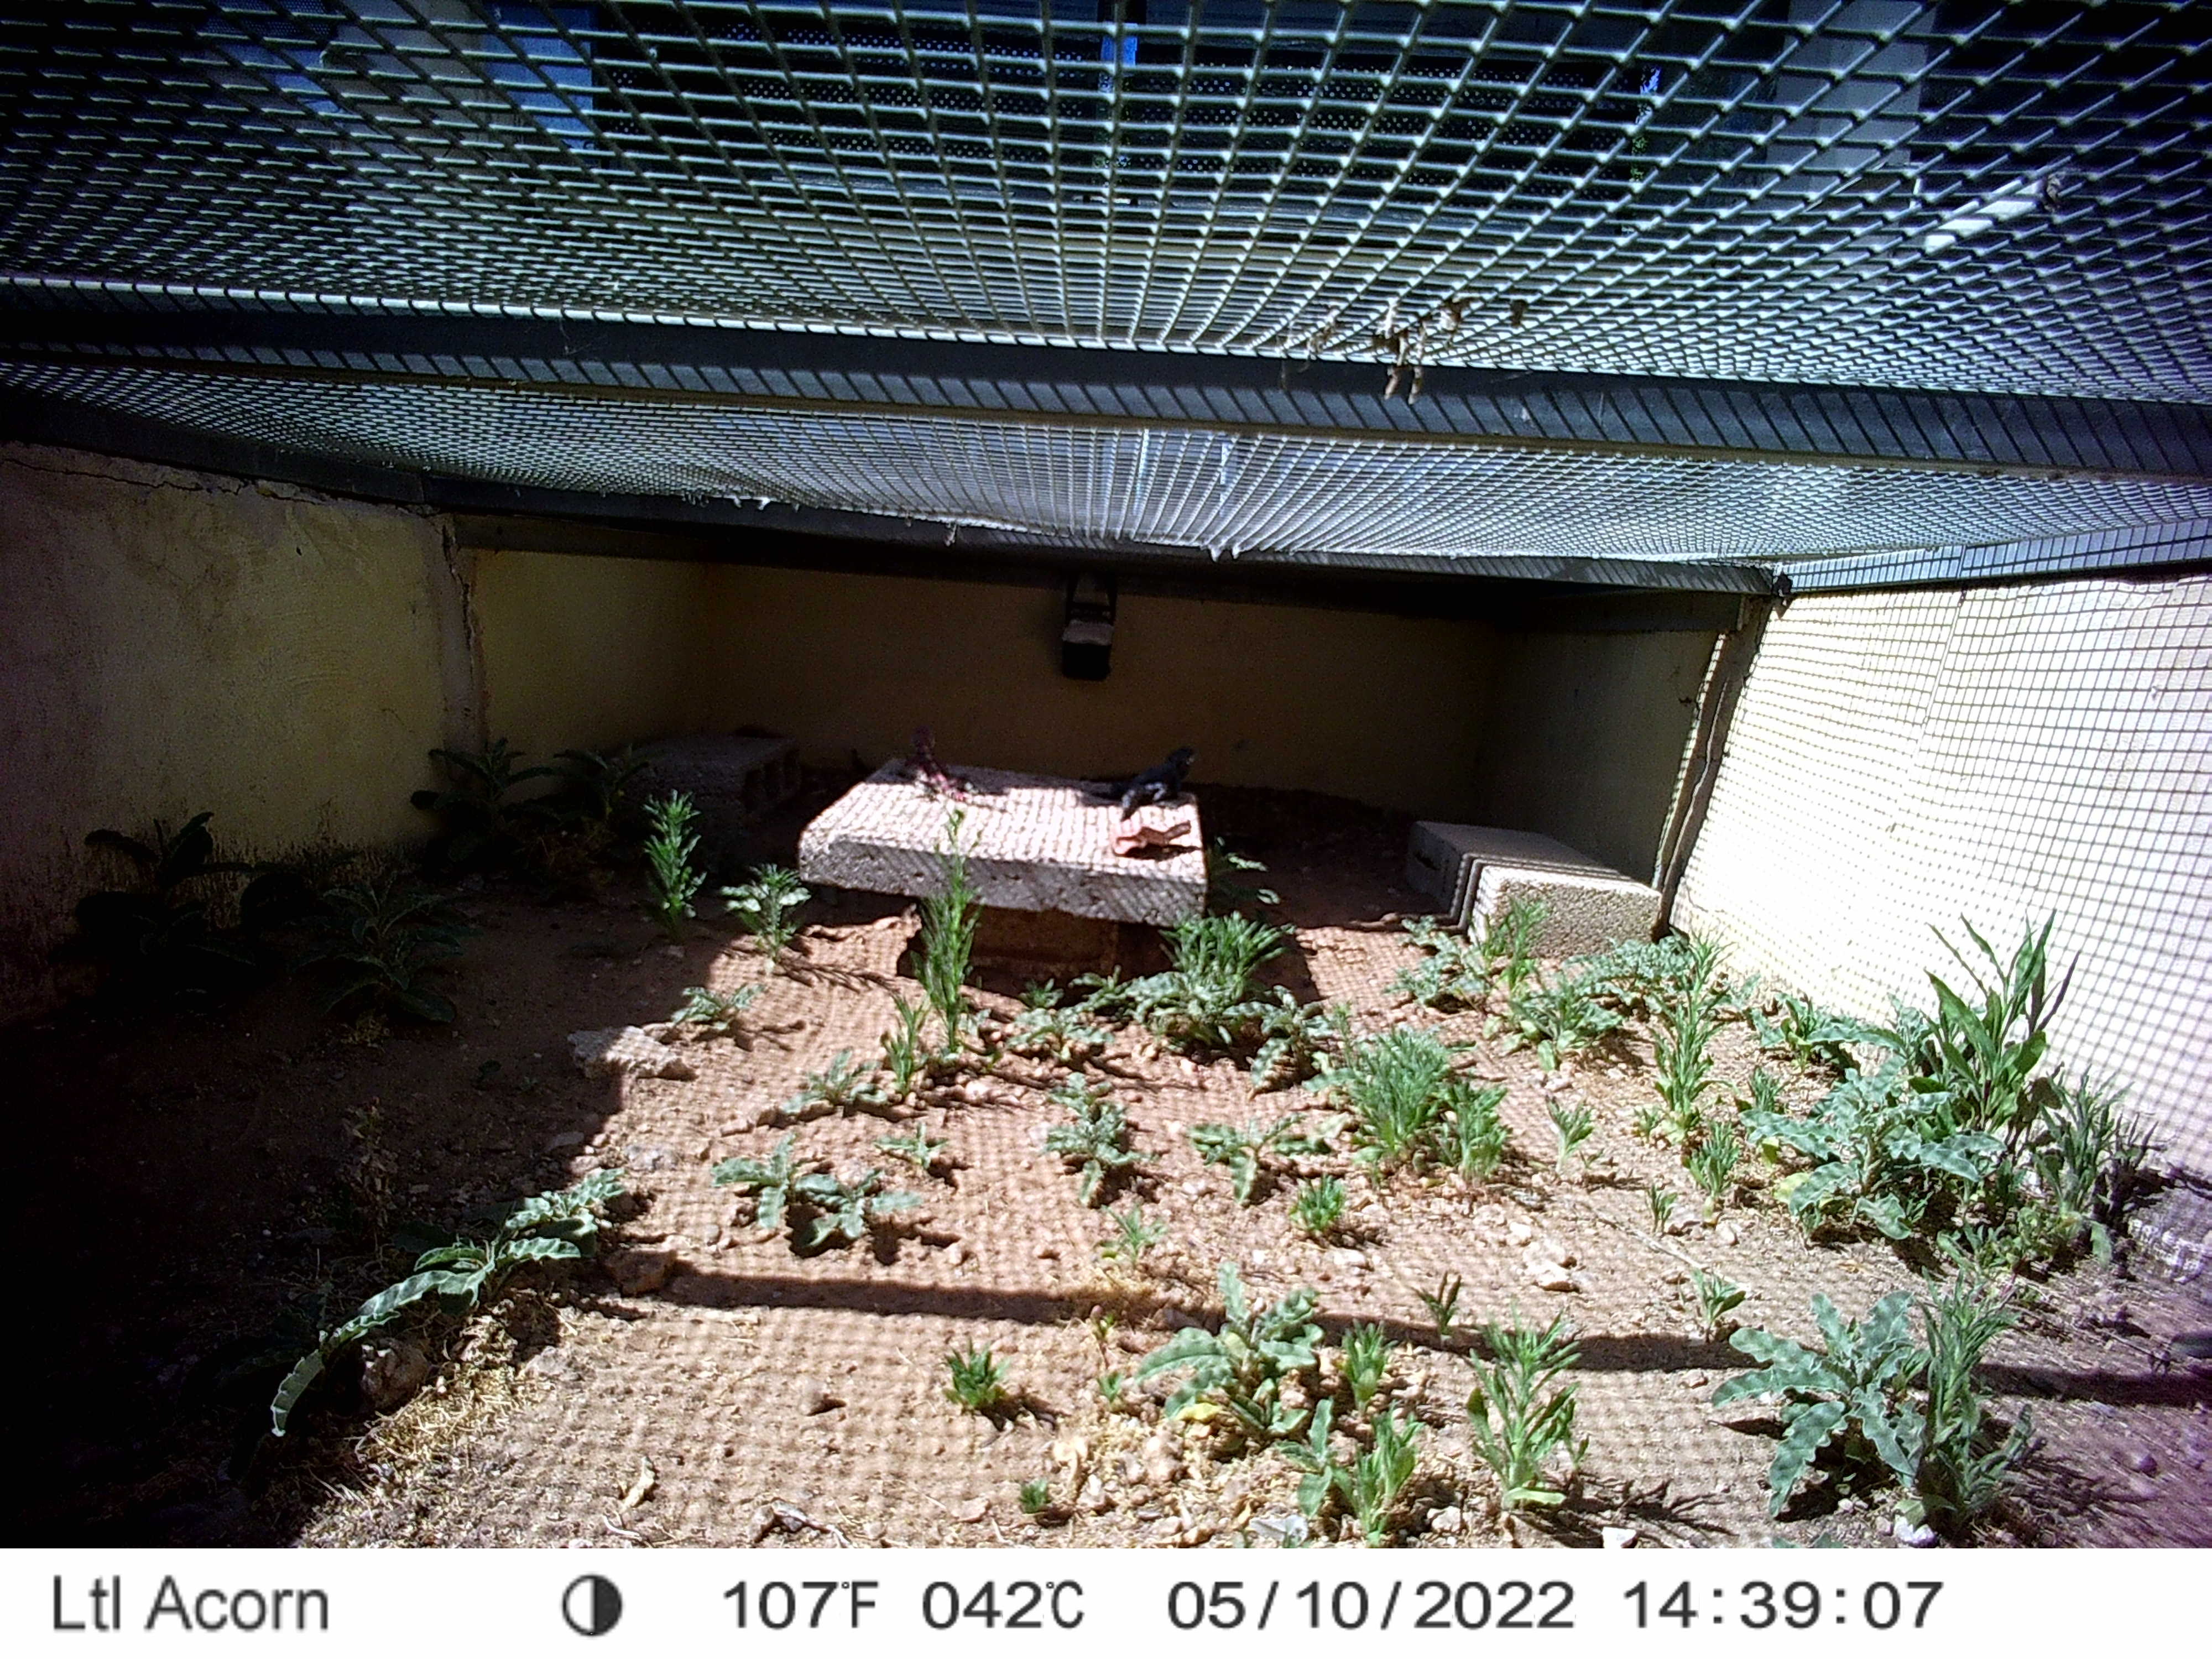lizard: (1089, 742, 1205, 810), (894, 730, 996, 803)
